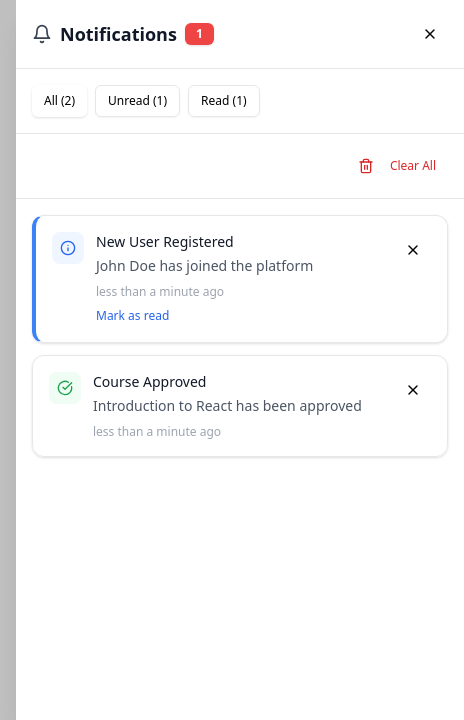
Test case: Notification Panel › should filter notifications by status
Note: Click unread filter
Click the button "Unread (1)": point(138, 101) x1=95 y1=85 x2=180 y2=117
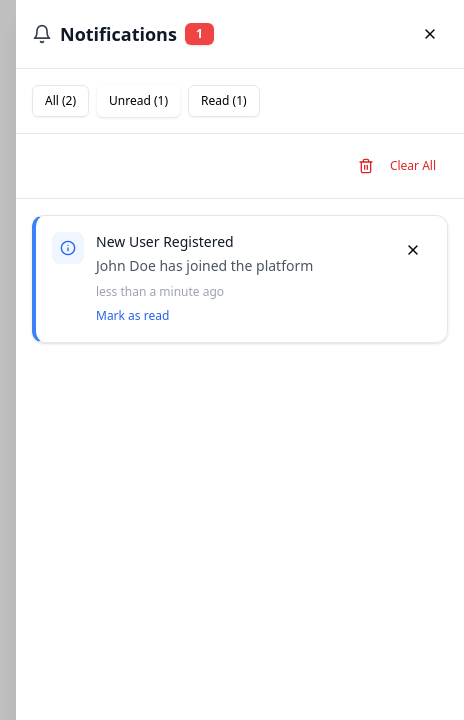
expect the text "New User Registered" is shown: met, box x1=96 y1=232 x2=234 y2=251
expect the text "Course Approved" is gone: met
